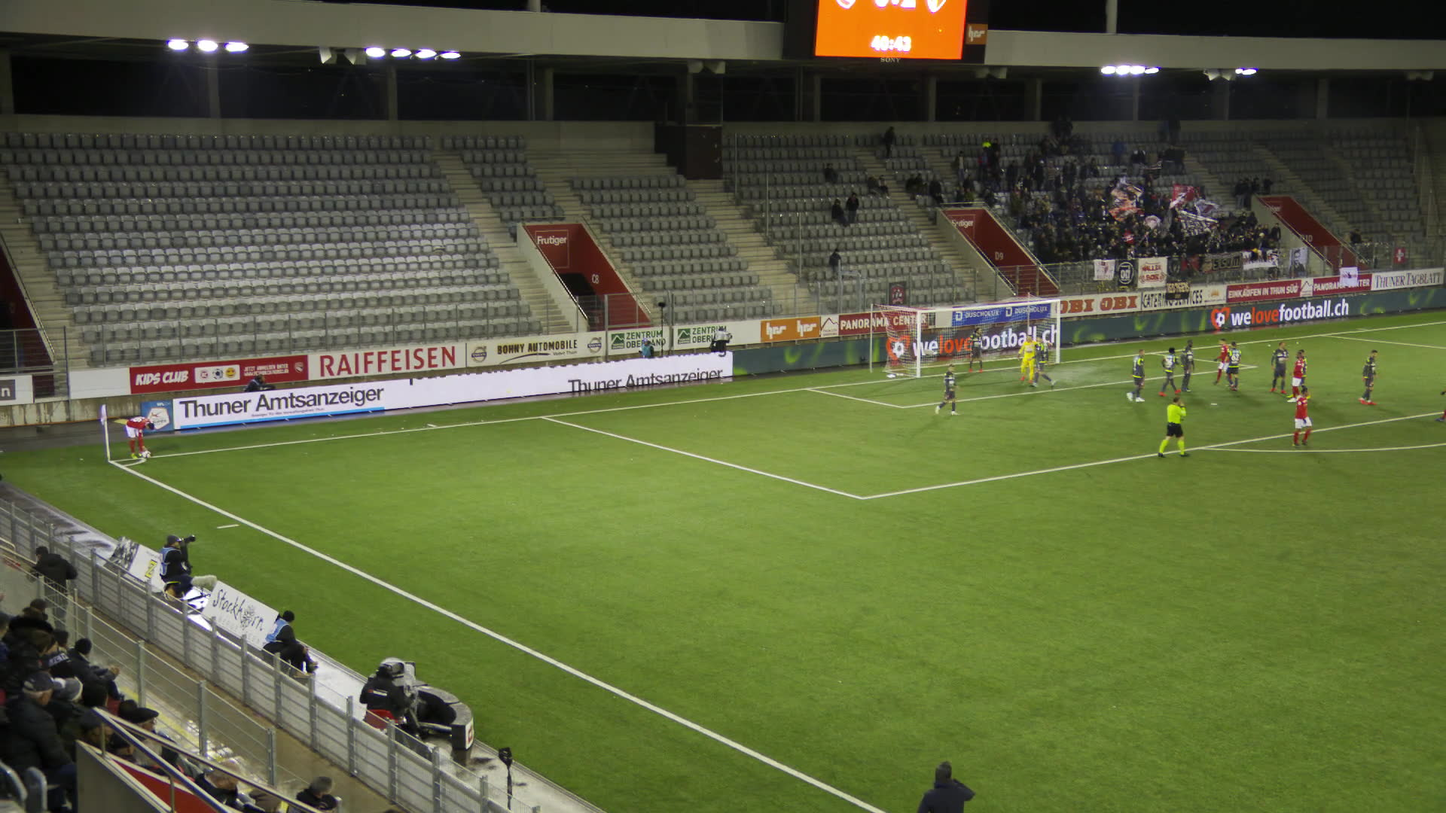ball: (140, 449, 151, 459)
player: (1027, 333, 1057, 389), (1286, 386, 1311, 449), (933, 362, 962, 416), (1012, 333, 1042, 384), (123, 414, 154, 461), (1355, 349, 1380, 406), (1123, 347, 1148, 403), (1265, 340, 1290, 394), (1211, 337, 1235, 388), (1157, 345, 1180, 397), (1290, 348, 1313, 399), (1285, 350, 1305, 403), (1178, 338, 1196, 393), (1225, 341, 1243, 394), (966, 326, 986, 373)
referee: (1155, 394, 1187, 458)
